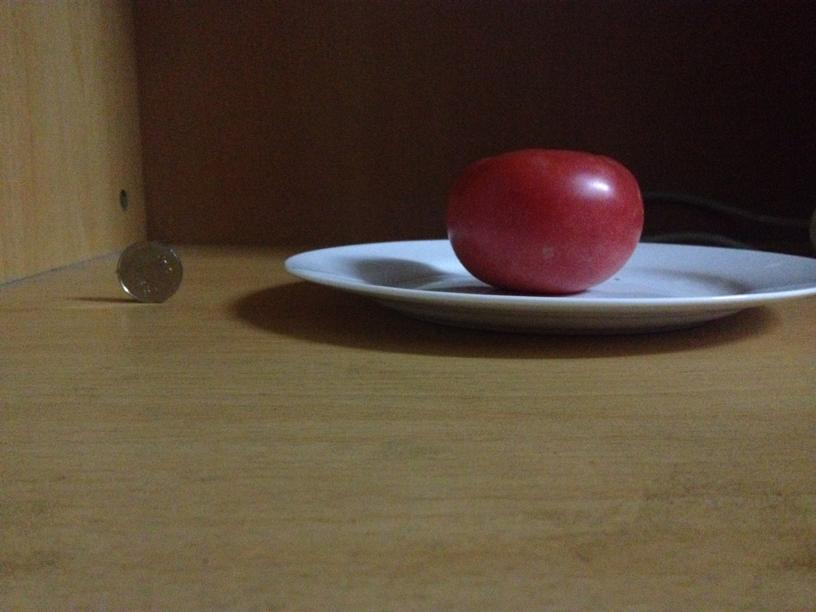coin: (111, 239, 183, 300)
tomato: (439, 152, 647, 294)
